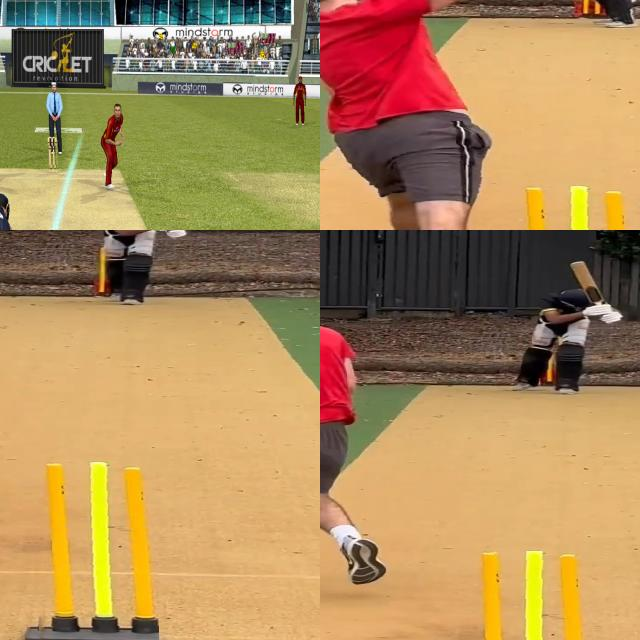Cricket ball: (460, 551, 592, 640)
Stumps: (25, 459, 158, 640), (502, 184, 640, 230), (46, 136, 57, 170)
